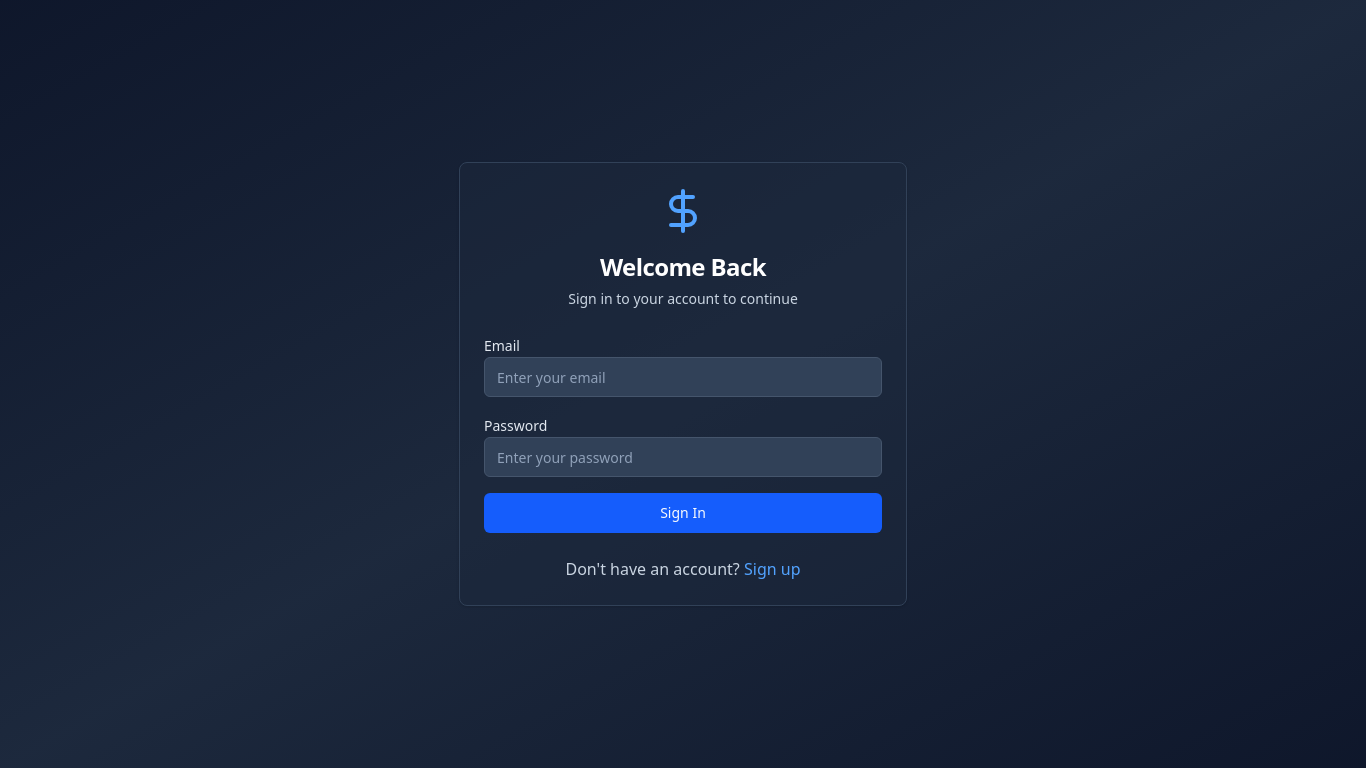
Test: Login Page › shows validation errors for empty fields
Step 1. Click the button "Sign In" → x=683, y=513, box [484,493,882,533]
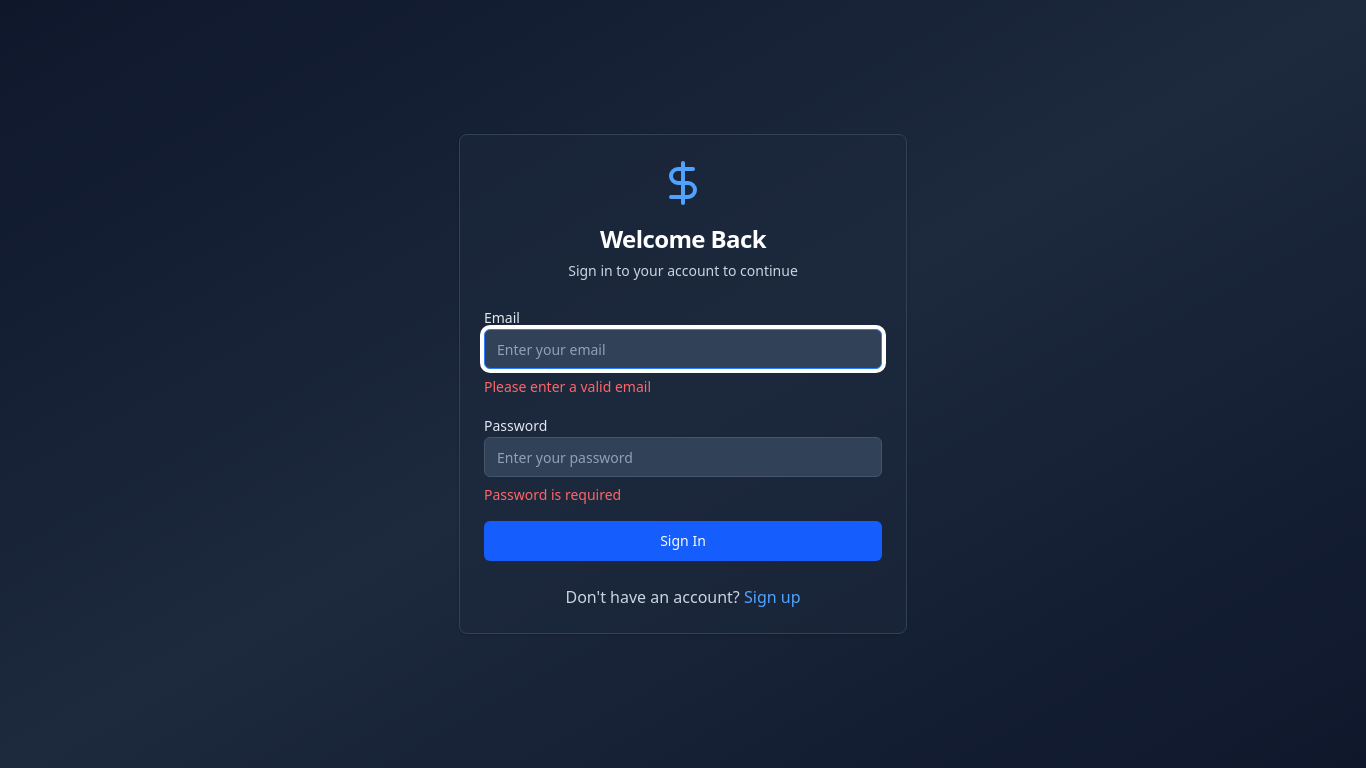
Now the text "Please enter a valid email" is shown, box [484,377,651,396]
Now the text "Password is required" is shown, box [484,485,621,504]
